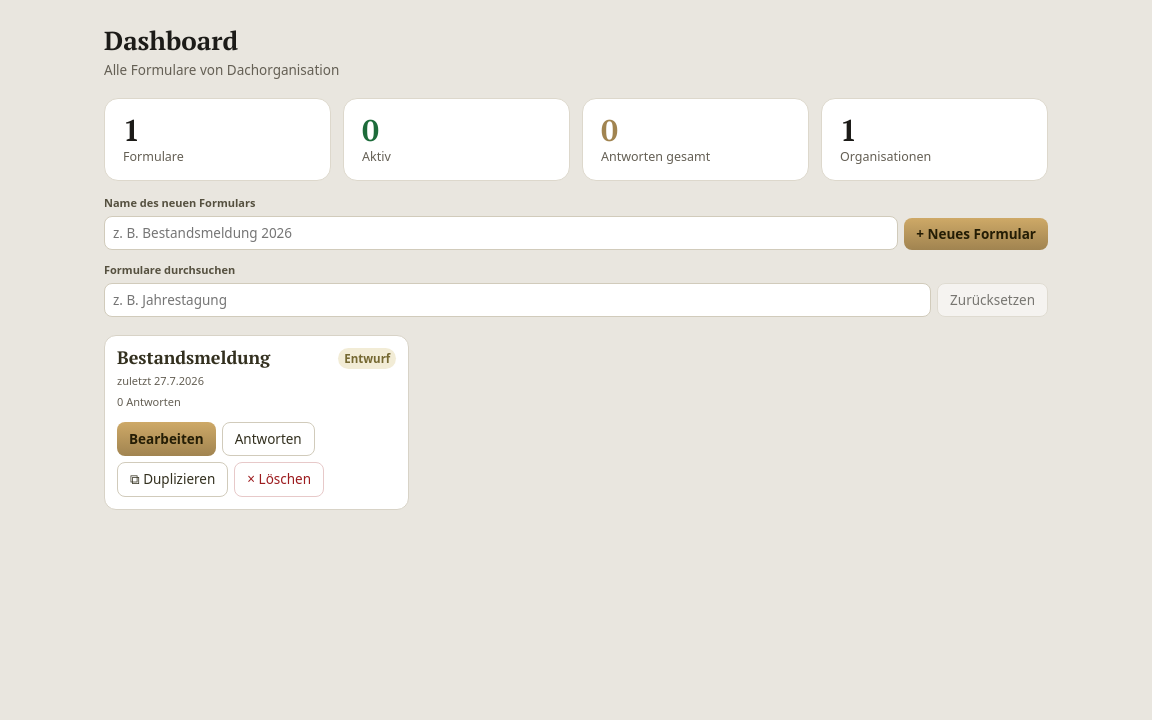
Test case: DashboardView › × Löschen › shows the server’s own refusal and leaves the card in place
The image size is (1152, 720).
Expected: the heading "Bestandsmeldung" is shown, [117, 346, 270, 369]
Click the button "× Löschen". click: (279, 480)
box: [234, 462, 324, 497]
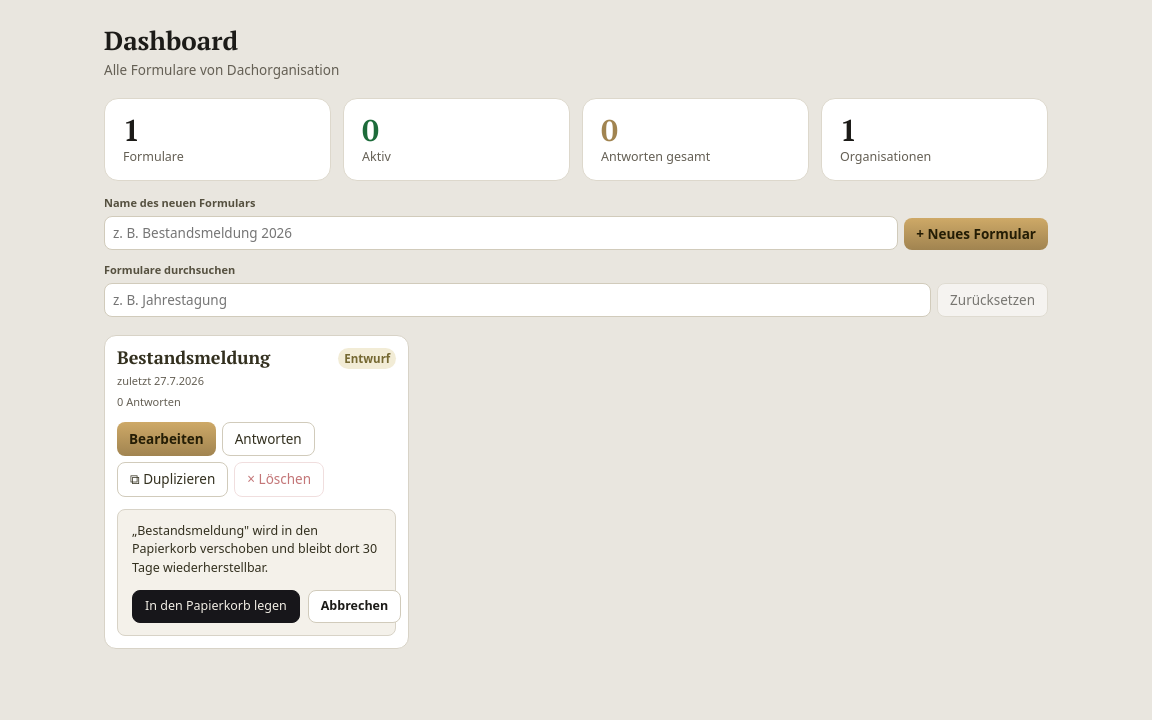
Click the button "In den Papierkorb legen". click: (216, 606)
box: [132, 590, 300, 623]
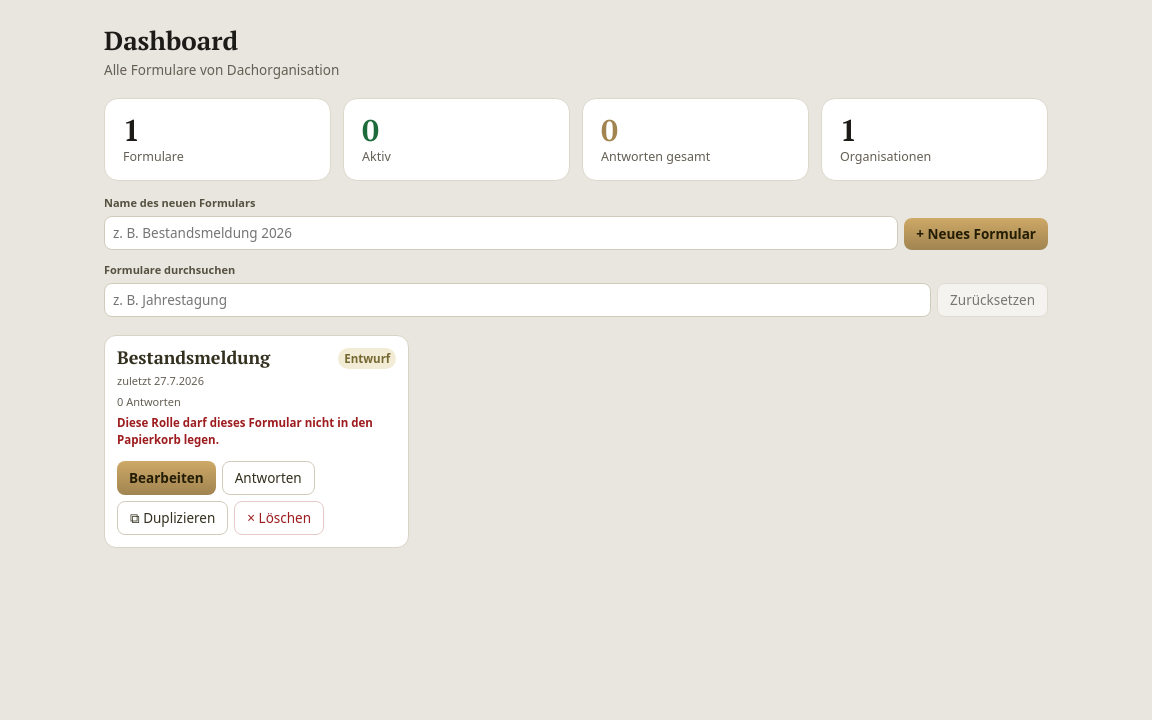
Expected: the heading "Bestandsmeldung" is shown, [117, 346, 270, 369]
Now the message shows "nicht", box [117, 415, 373, 447]
